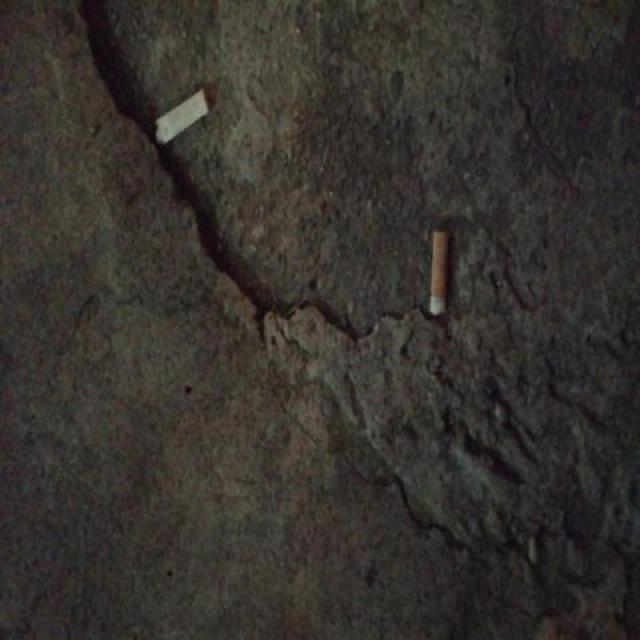non-organic waste: (153, 82, 211, 150), (427, 224, 452, 320)
